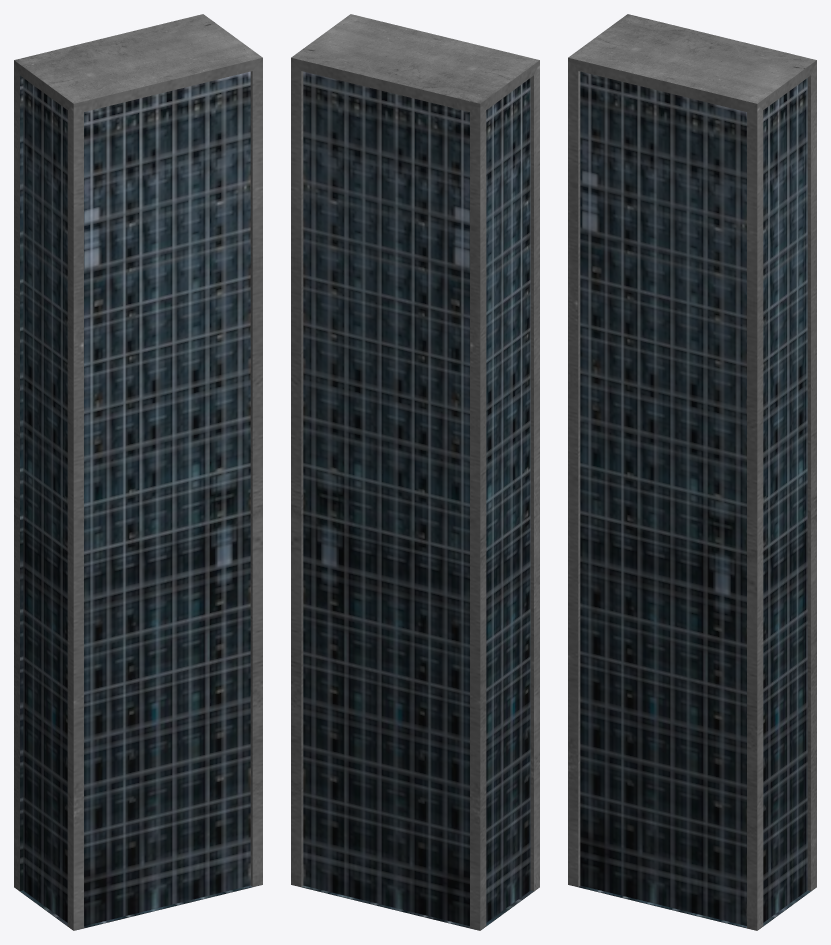
The model's file is TOWER_06.fbx.
3 renders of one model, left to right at view 1: azimuth 30°, elevation 25°; view 2: azimuth 150°, elevation 25°; view 3: azimuth 330°, elevation 25°, orthographic.
Visible parts, largest first — view 1: TOWER_06; view 2: TOWER_06; view 3: TOWER_06.
Part boxes in pixels (bbox=[...]): TOWER_06: bbox=[14, 14, 262, 930]; TOWER_06: bbox=[291, 14, 539, 930]; TOWER_06: bbox=[568, 14, 816, 930].
Bounding box in the file's own units: 1995 × 8335 × 1091.
